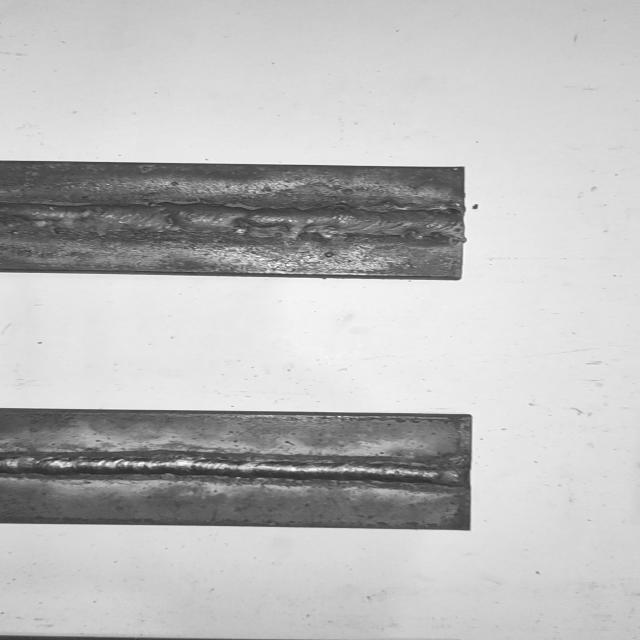Defect: (227, 195, 335, 245)
Welding Line: (0, 454, 464, 482), (0, 206, 461, 232)
Workpiece: (0, 403, 483, 533), (0, 158, 483, 279)
